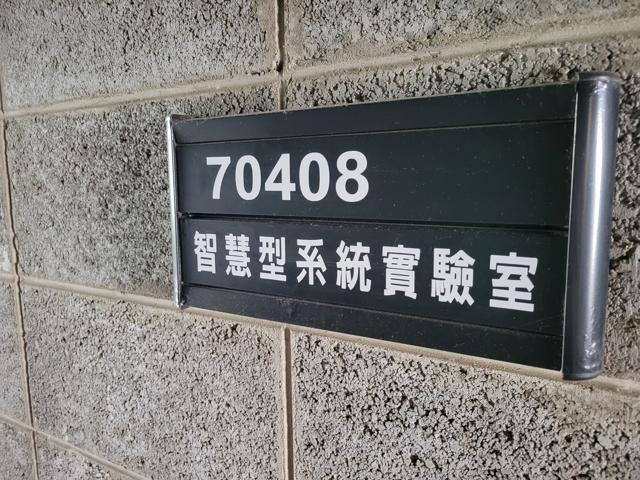doorplate: (146, 69, 620, 388)
